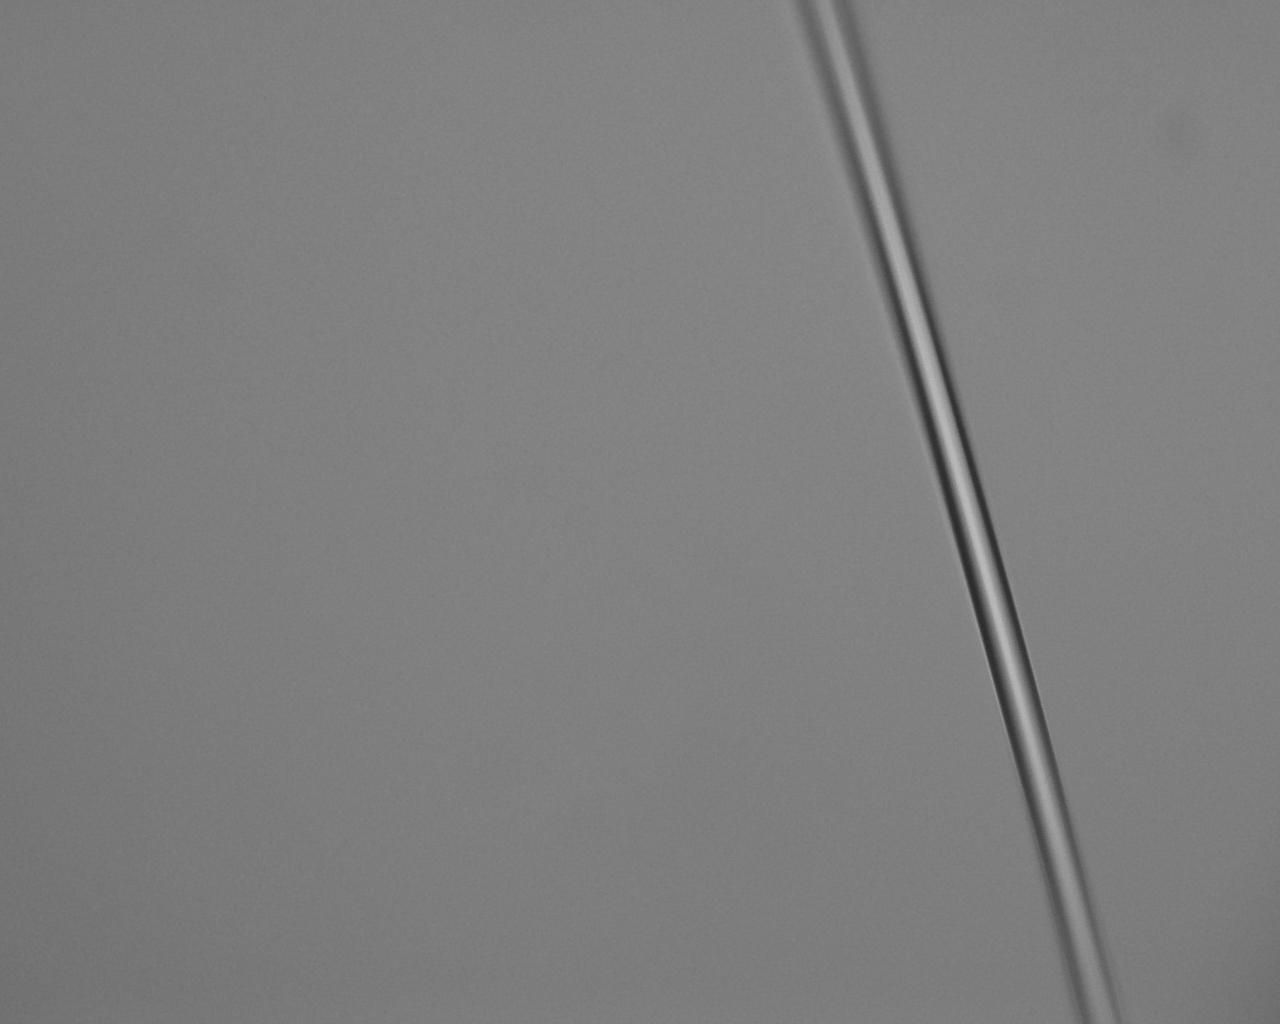fiber: (1080, 0, 1256, 471), (0, 209, 806, 286), (806, 805, 1280, 893), (560, 471, 591, 1024)
